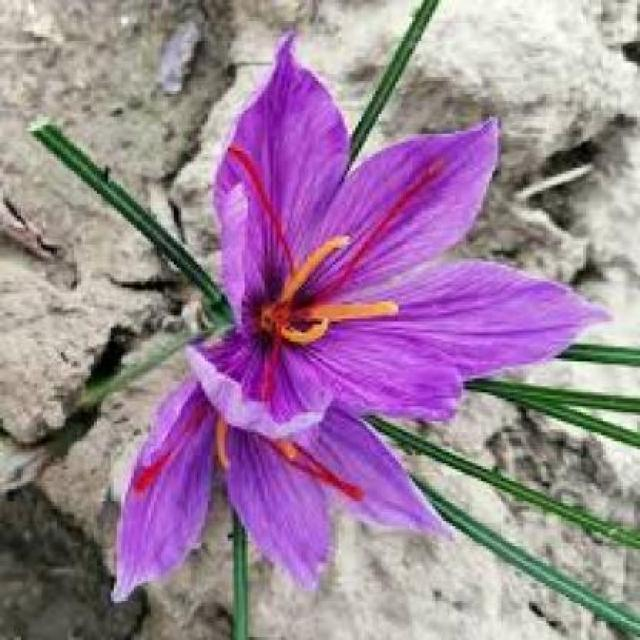Flower: (118, 43, 593, 591)
stigma: (337, 156, 445, 285), (223, 136, 305, 272), (128, 401, 202, 486), (281, 438, 366, 507), (252, 333, 285, 403)
